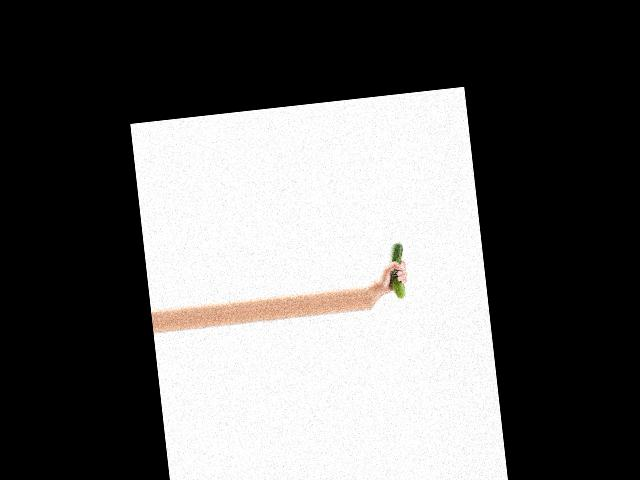cucumber: (386, 242, 409, 299)
